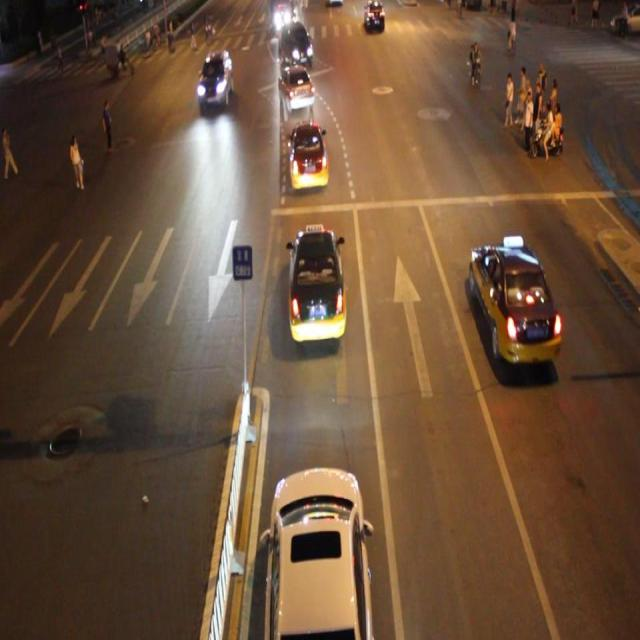car: (263, 464, 373, 640), (470, 241, 559, 363), (287, 226, 346, 343), (290, 119, 328, 189), (196, 47, 234, 107), (278, 67, 314, 113), (280, 23, 313, 68), (364, 1, 384, 32)
